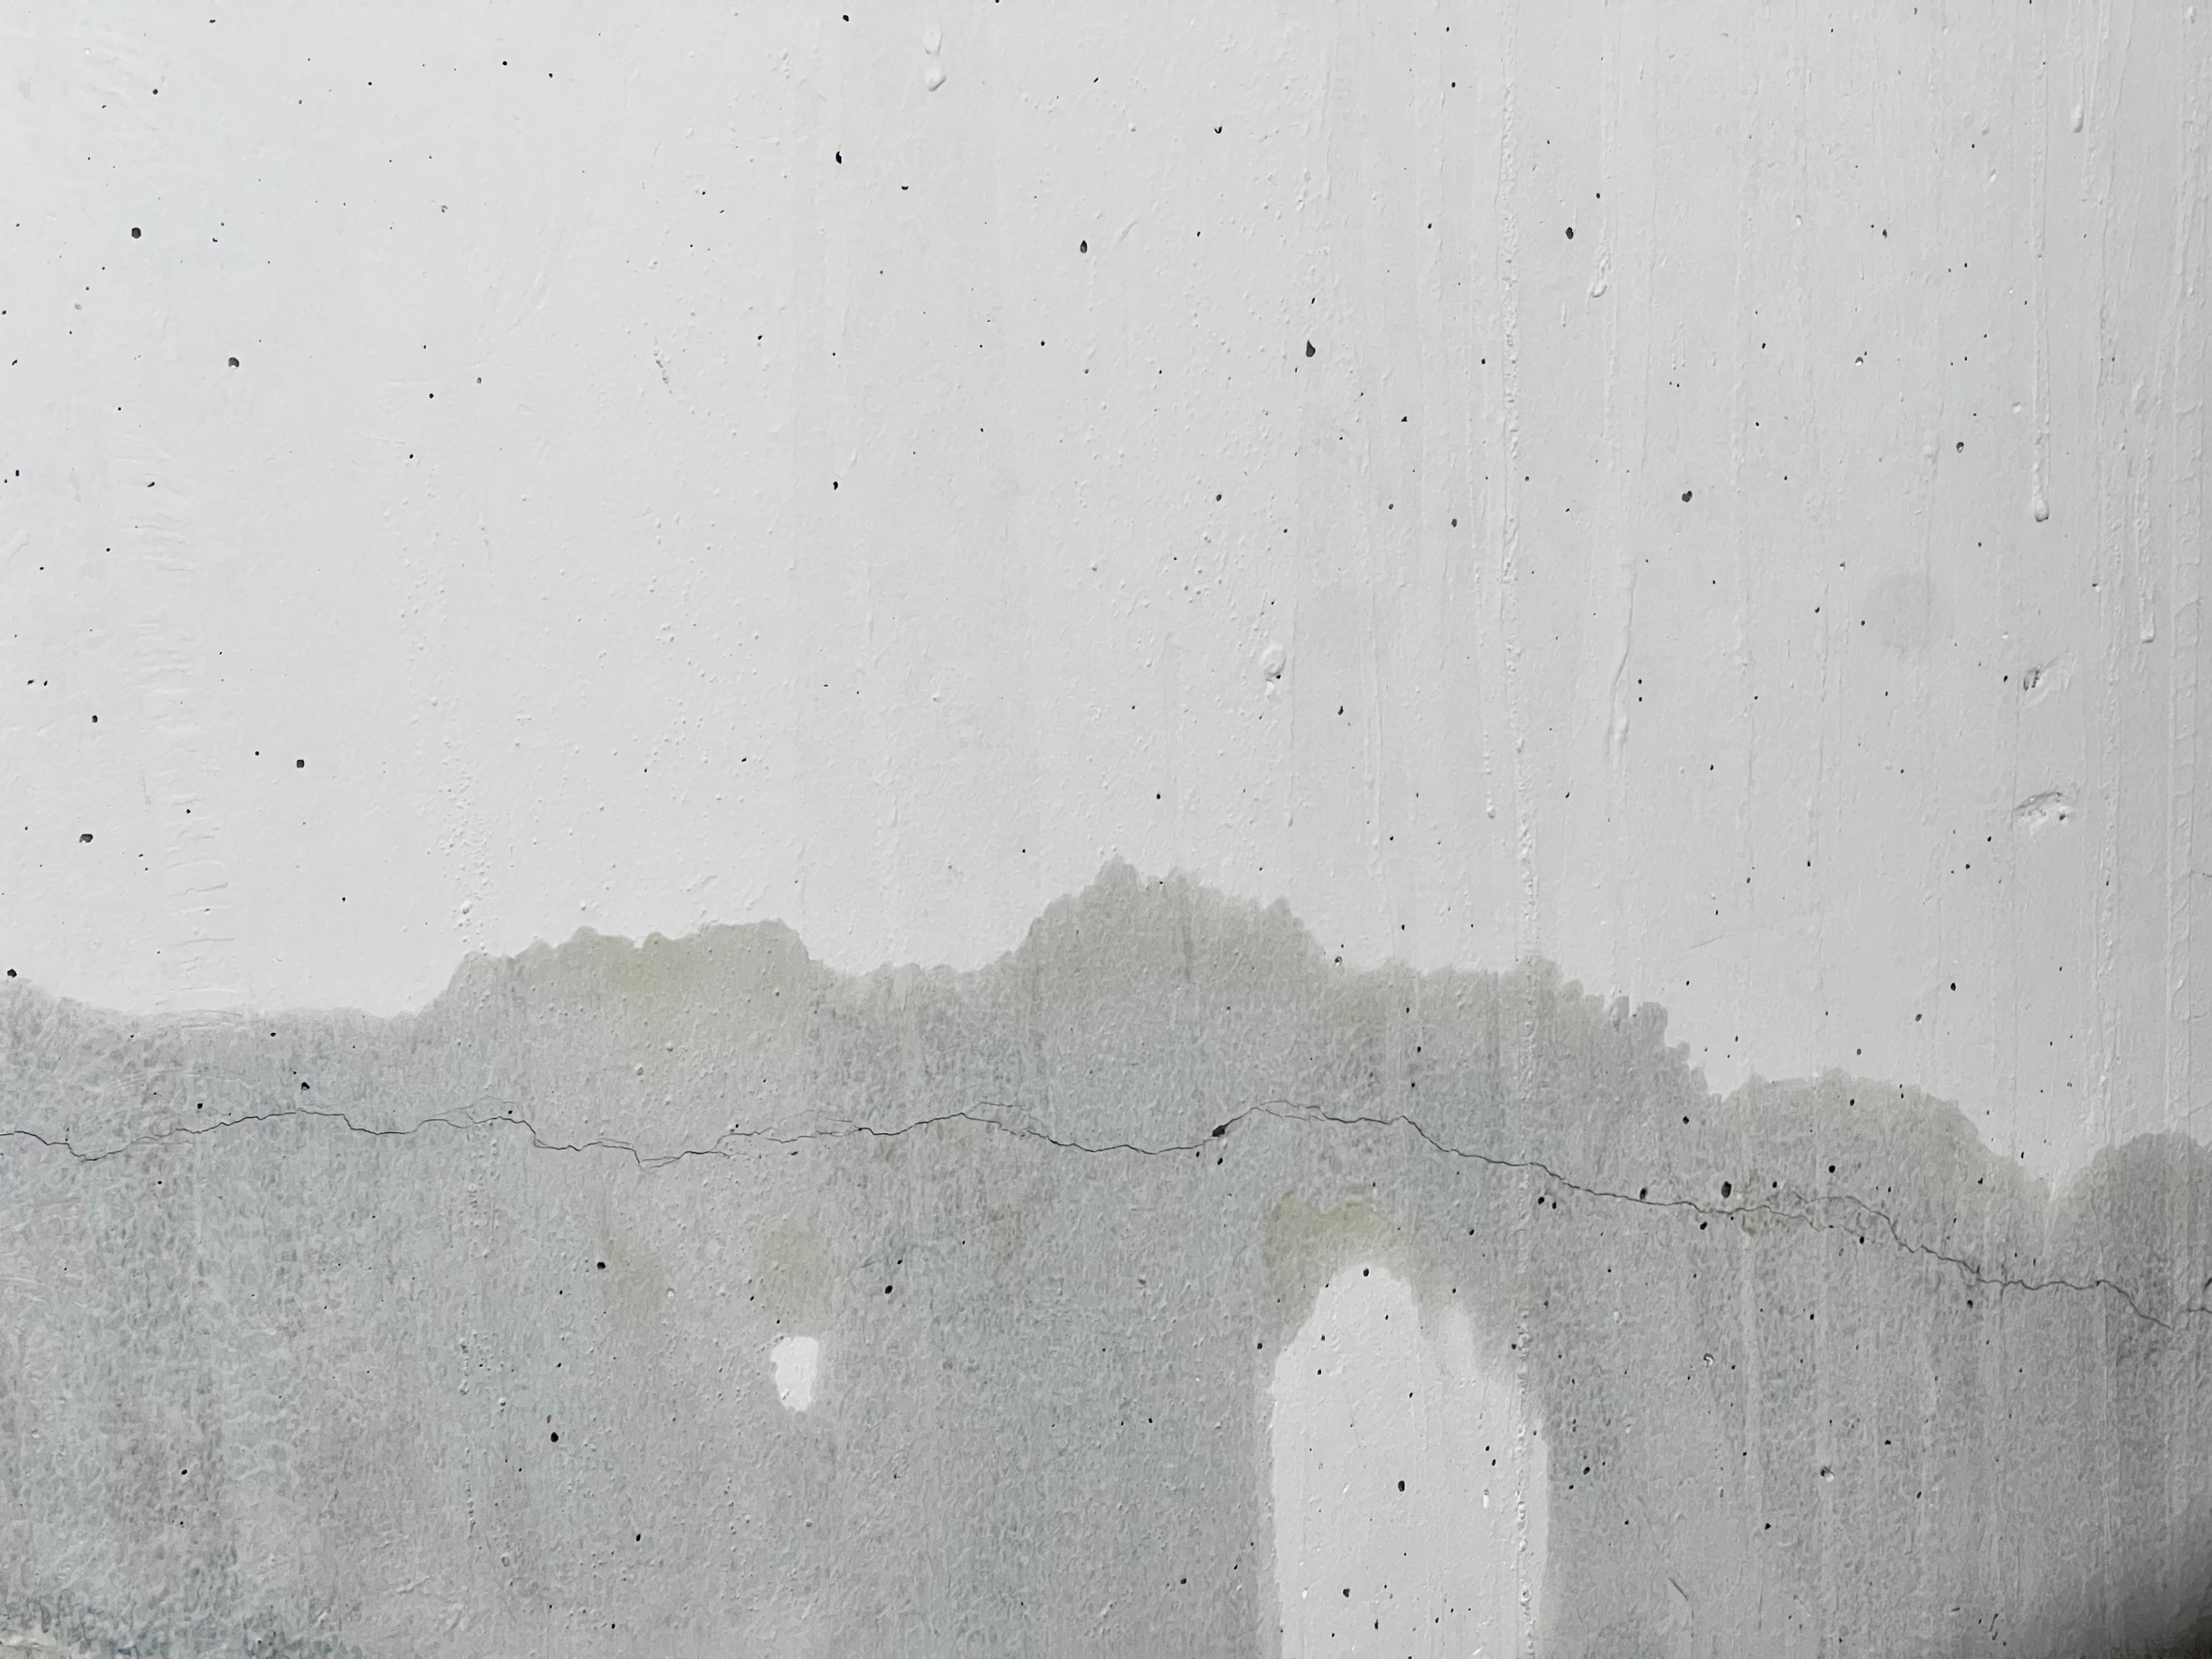Low: (2, 1103, 2212, 1359)
